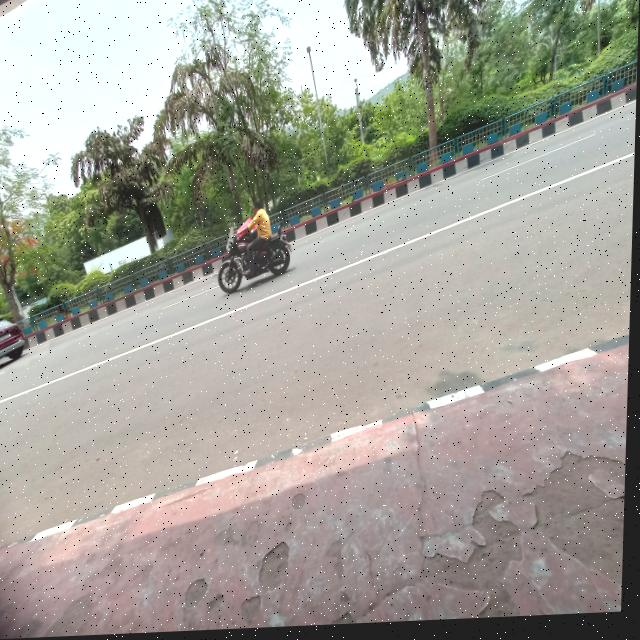bike: (215, 228, 299, 300)
